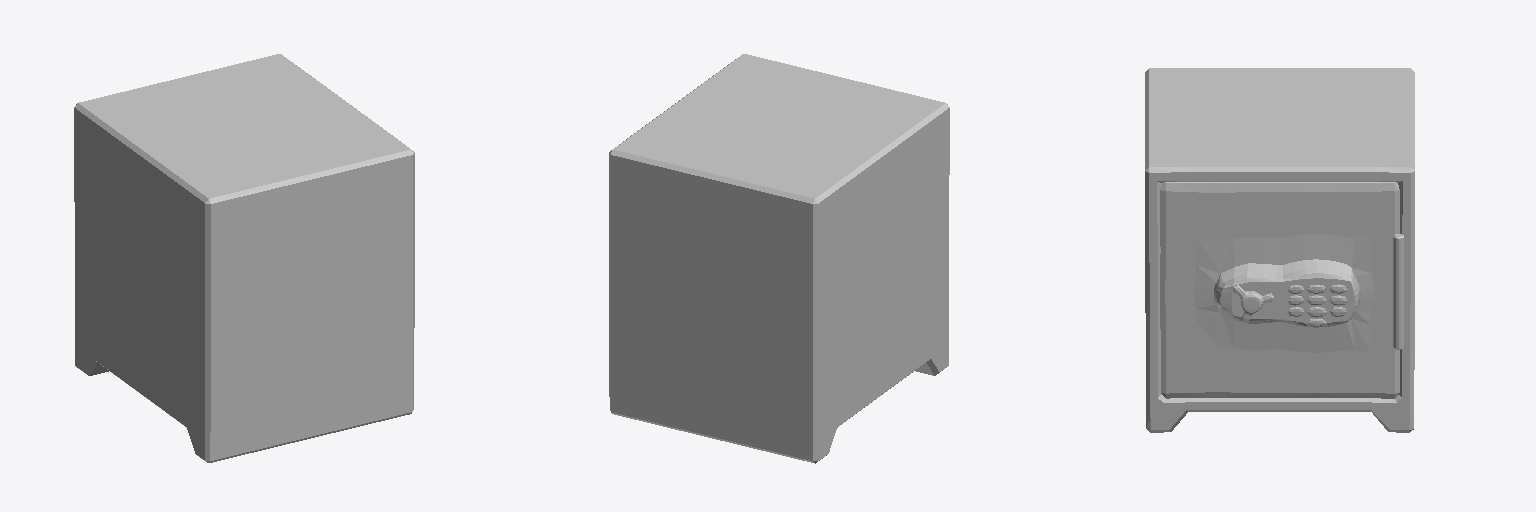
File: Safe_Low.obj
3 views of the same model, side by side, from view 1: azimuth 30°, elevation 25°; view 2: azimuth 150°, elevation 25°; view 3: azimuth 270°, elevation 25° (orthographic).
Parts seen in each view (by area): view 1: Safe_Low Safe_Low1; view 2: Safe_Low Safe_Low1; view 3: Door_Low Safe_Low, Safe_Low Safe_Low1.
Part boxes in pixels (x1,y1,x2,y2): Safe_Low Safe_Low1: (74,54,414,462); Safe_Low Safe_Low1: (609,54,949,463); Door_Low Safe_Low: (1160,182,1399,398); Safe_Low Safe_Low1: (1145,68,1414,432).
Bounding box in the file's own units: 4.29 × 4.68 × 4.33.